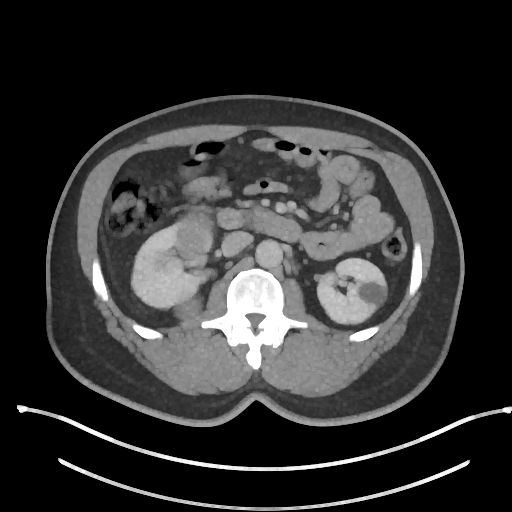Lesion: (356, 280, 388, 311)
